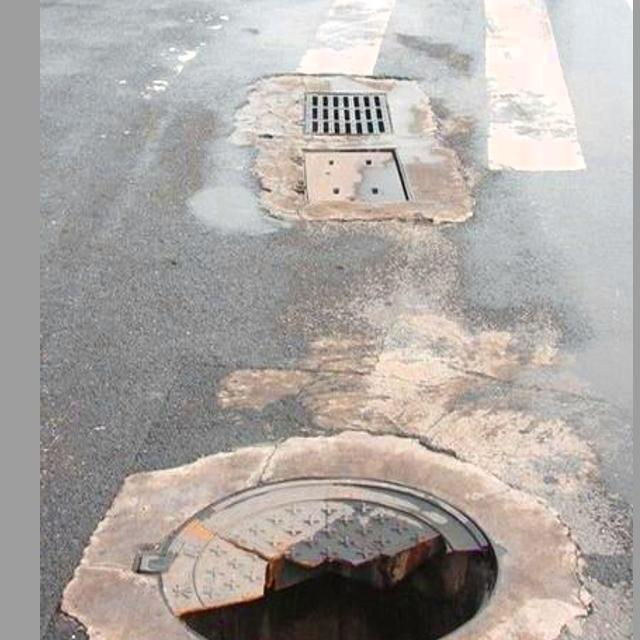broke: (78, 390, 579, 640)
